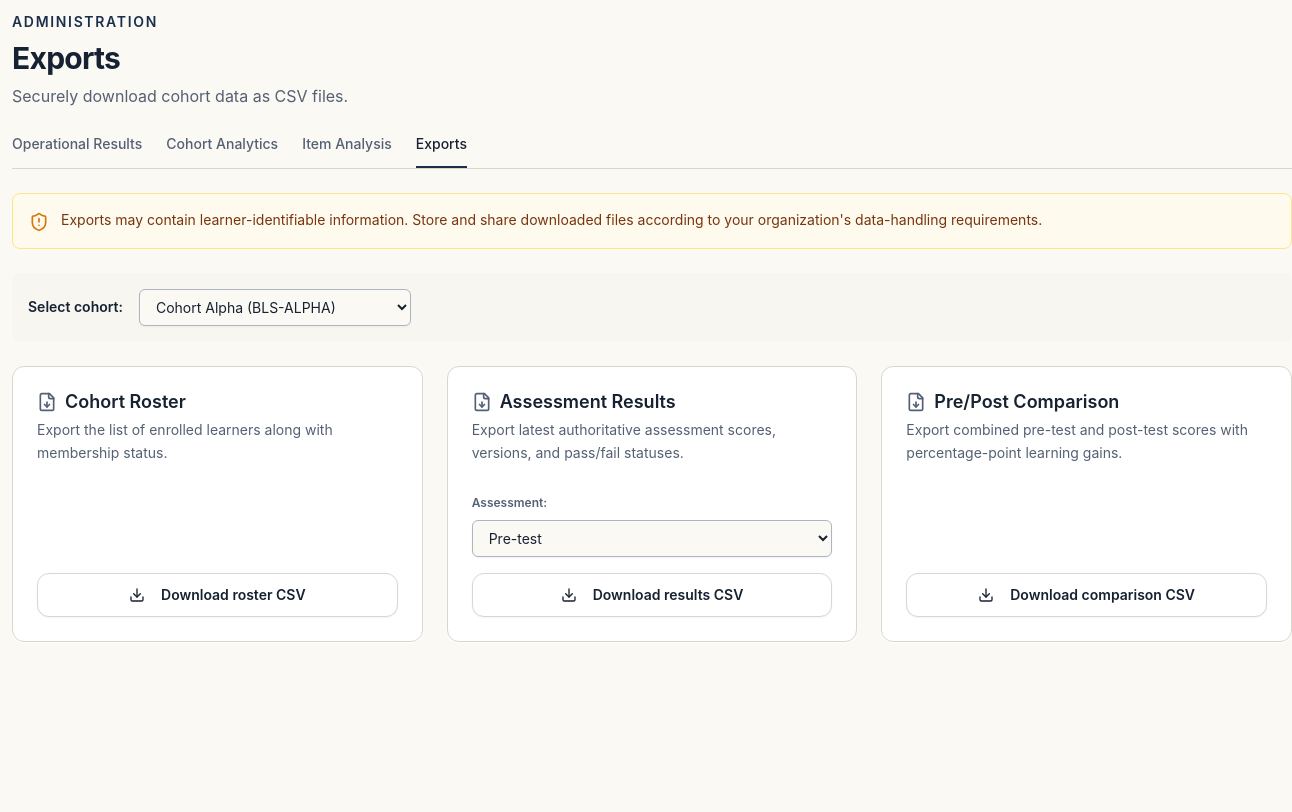
Scenario: AdminExportsPage › executes pre/post comparison export with expected filename
Click the button "Download comparison CSV": point(1087, 595) [906, 573, 1267, 617]
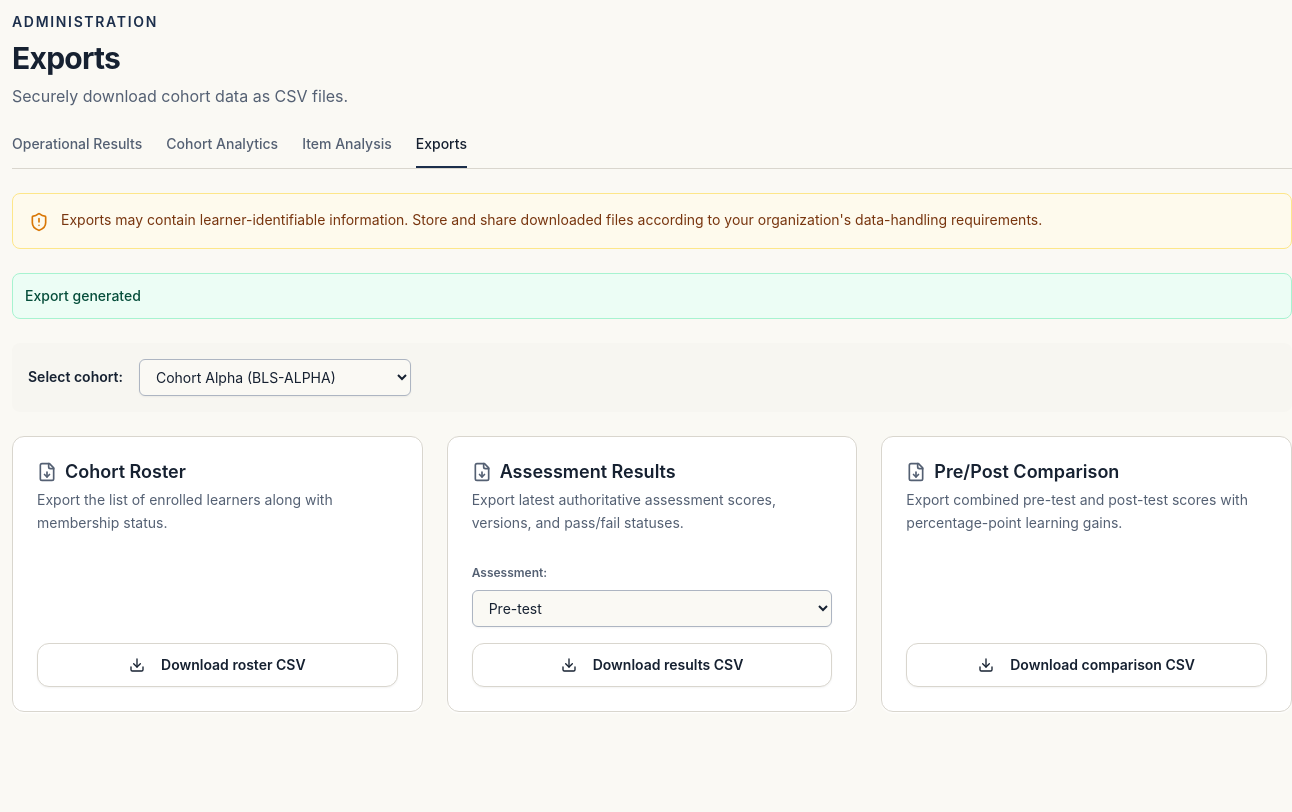
Now the message reads "Export generated", box [25, 287, 141, 304]
